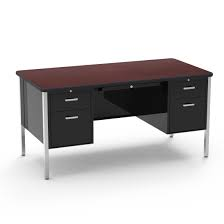desk_087.jpg: (8, 47, 219, 184)
